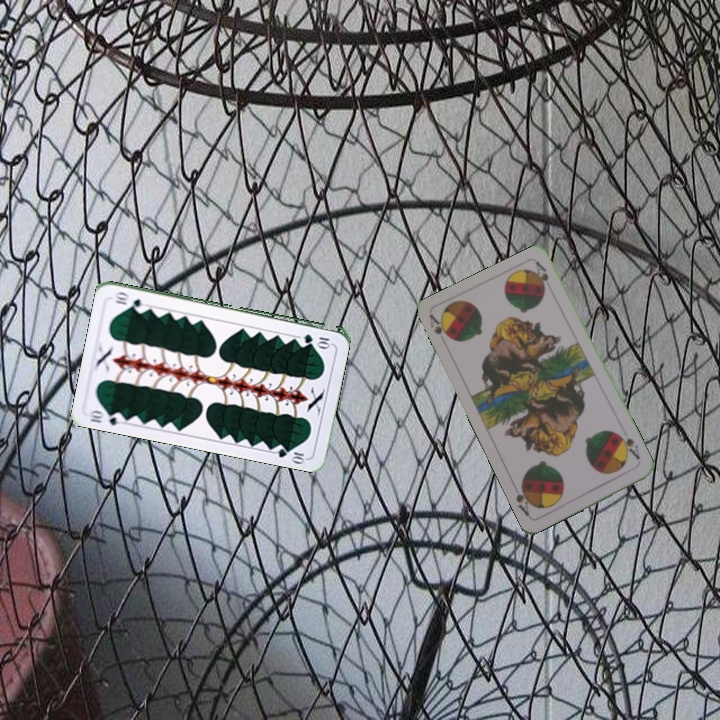G10: (86, 406, 127, 428), (299, 330, 333, 348)
SA: (614, 430, 643, 465), (426, 311, 455, 343)
